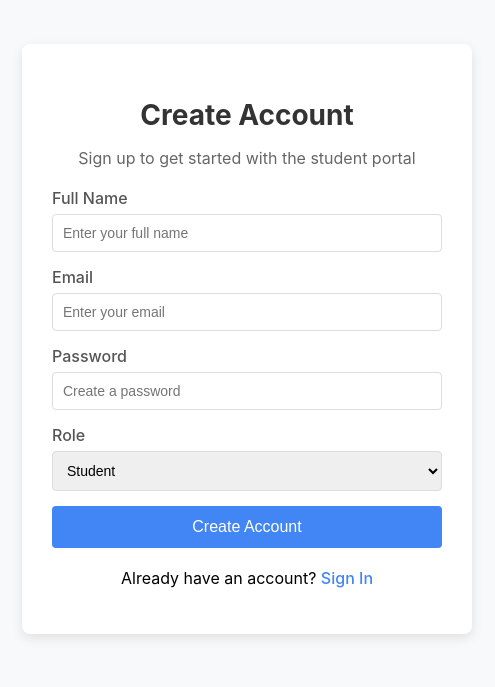
Scenario: Register – failed submission › shows error message when email already exists
The image size is (495, 687).
Type "Jane" into the field labelled "Full Name". click: {"x": 247, "y": 233}
box: [52,214,442,252]
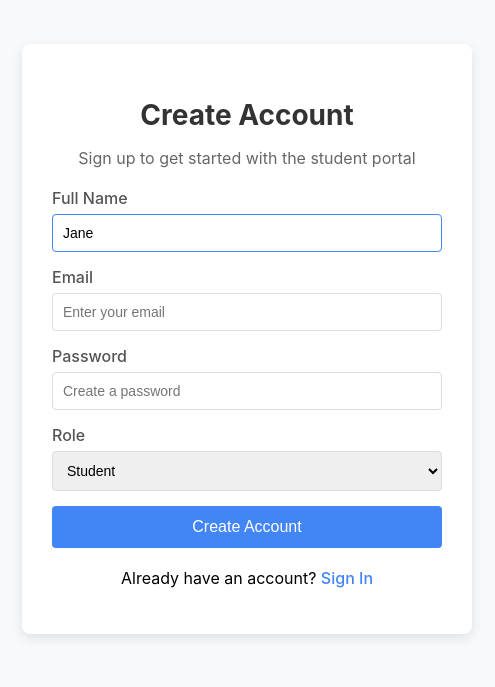
Type "dup@test.com" into the field labelled "Email". click: {"x": 247, "y": 312}
box: [52,293,442,331]
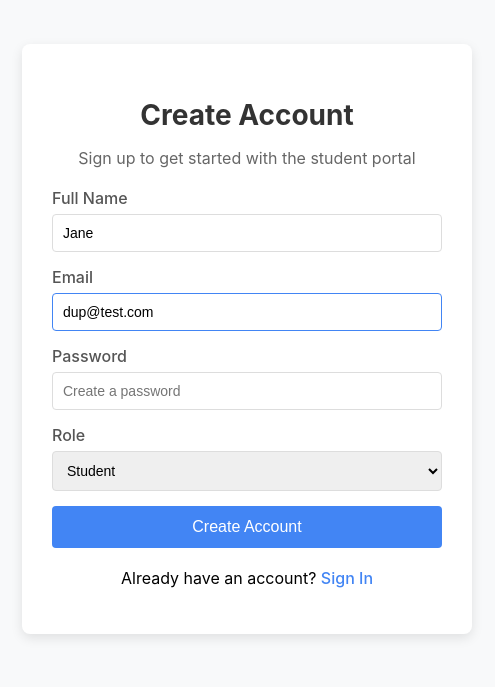
Type "pass123" into the password field labelled "Password". click: {"x": 247, "y": 391}
box: [52,372,442,410]
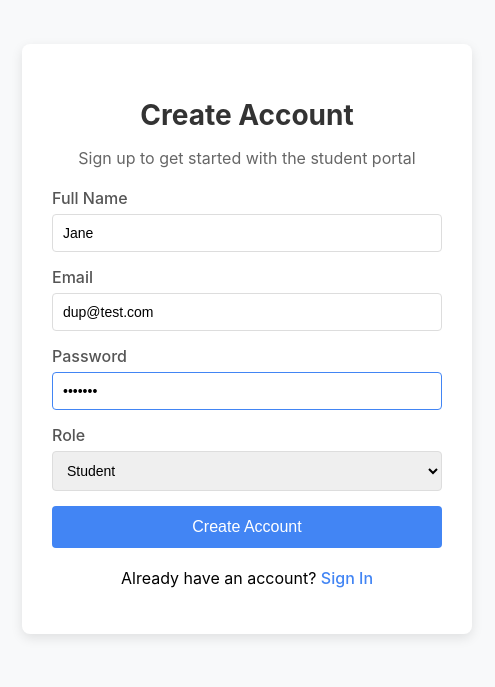
Submit the form "Full Name Email Password Role Create Account", box [52,188,442,548]
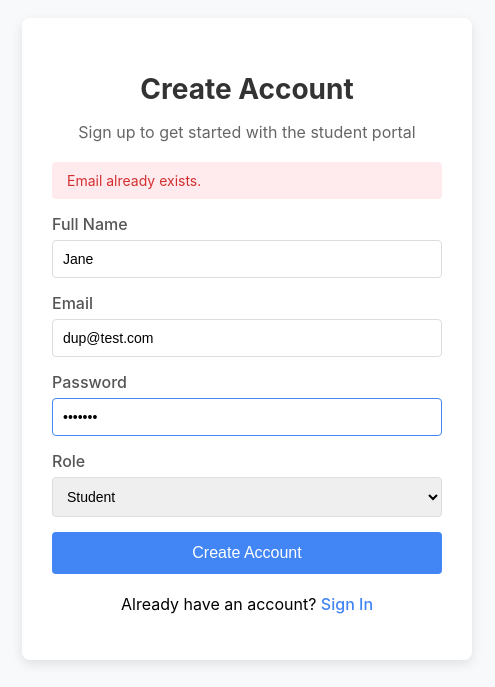
Check: the text "Email already exists." is shown, box [52,162,442,199]
